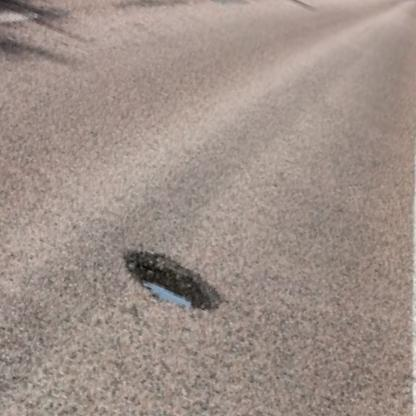pothole: (111, 237, 230, 324)
